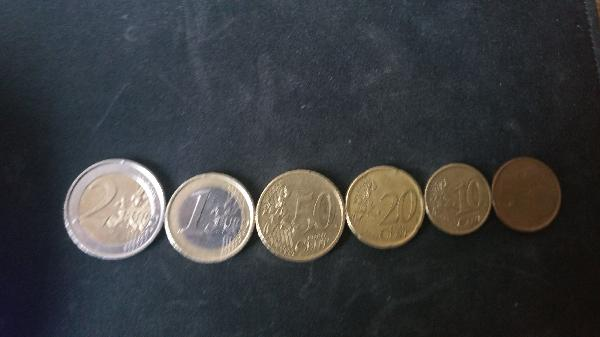Fifty Cent: (256, 165, 346, 270)
Five Cent: (490, 156, 567, 231)
One Euro: (167, 173, 257, 270)
Ten Cent: (425, 163, 492, 241)
Twenty Cent: (342, 163, 426, 254)
Two Euro: (66, 158, 163, 262)
